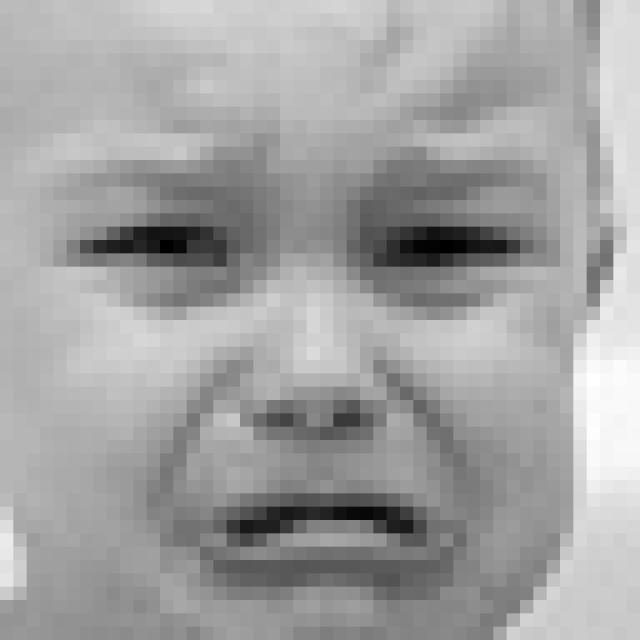sad: (47, 130, 556, 596)
